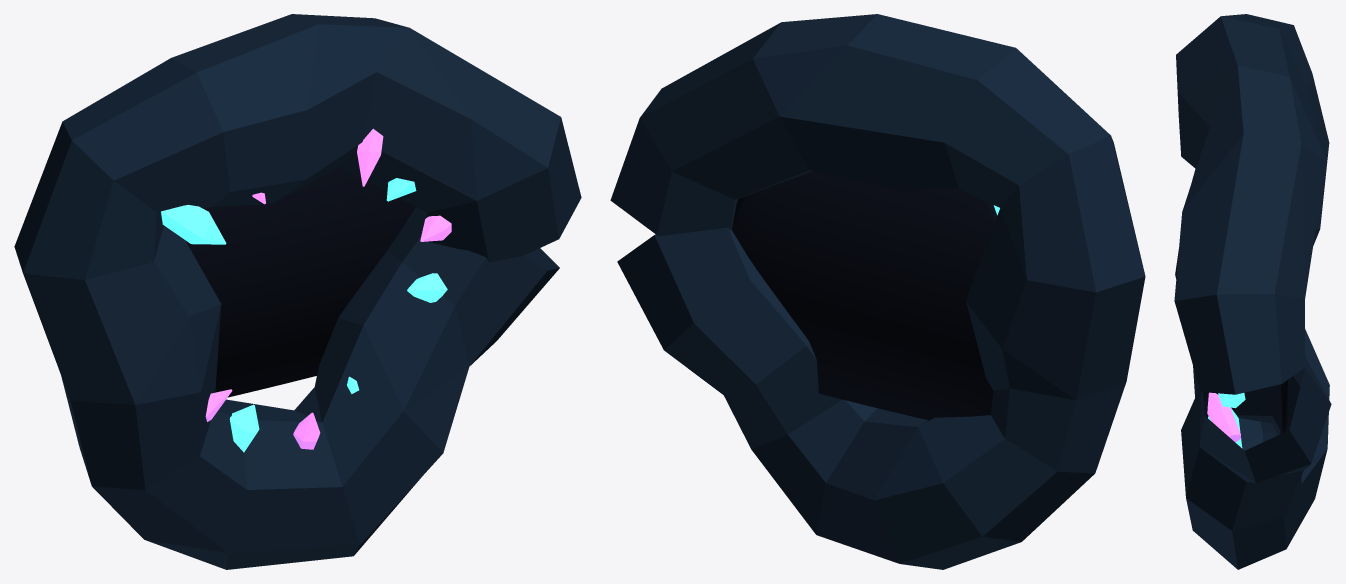
Rendered from warp_cavern.glb.
The picture shows the model from 3 angles, left to right: view 1: azimuth 30°, elevation 25°; view 2: azimuth 150°, elevation 25°; view 3: azimuth 270°, elevation 25°; orthographic projection. The views are drawn at different scales.
Visible parts, largest first — view 1: basalt_arch, portal_throat, amethyst_crystals; view 2: basalt_arch, portal_throat; view 3: basalt_arch, amethyst_crystals, portal_throat.
Boxes of the visible parts, x1,y1,x2,y2 form: basalt_arch: (14, 14, 581, 569); portal_throat: (185, 167, 415, 397); amethyst_crystals: (161, 128, 451, 452); basalt_arch: (610, 14, 1145, 569); portal_throat: (732, 171, 997, 420); basalt_arch: (1174, 14, 1331, 569); amethyst_crystals: (1207, 392, 1245, 448); portal_throat: (1278, 380, 1287, 433).
Bounding box in the file's own units: 2.48 × 2.35 × 0.6854.
